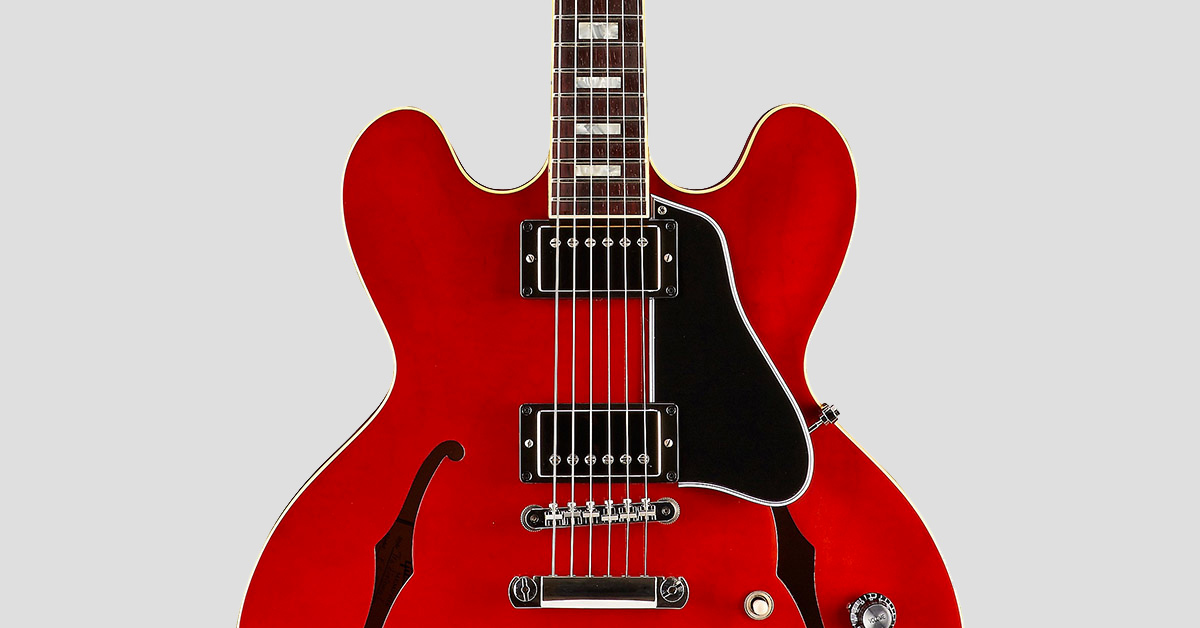ElectricGuitar: (333, 9, 964, 628)
